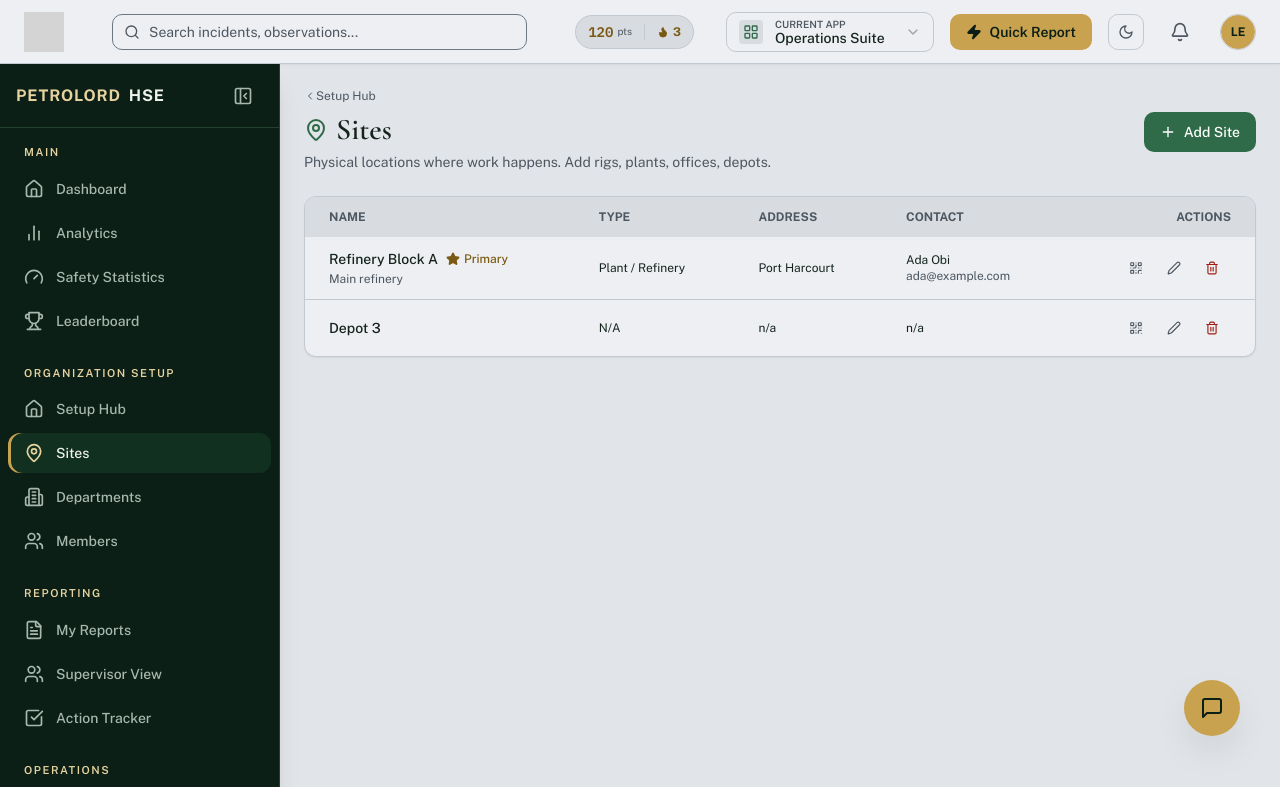
Test: Organisation admin (batch 1C) › further states › Sites: the delete confirmation is themed
Expected: the text "Depot 3" is shown, left=329, top=318, right=381, bottom=338
Press the mouse on the button named "Delete Depot 3": (1212, 328) left=1193, top=312, right=1231, bottom=344
Click the button named "Delete Depot 3": (1212, 328) left=1193, top=312, right=1231, bottom=344
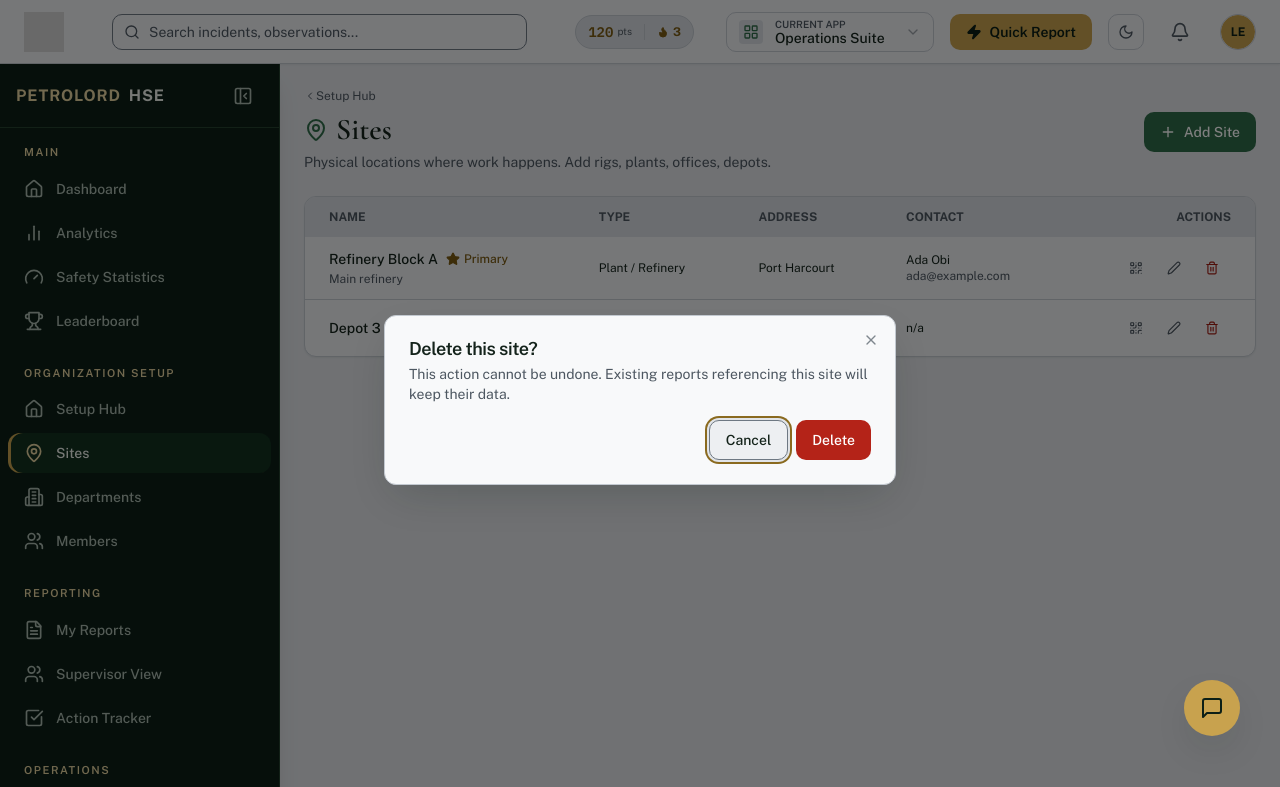
Expected: the heading "Delete this site?" is shown, left=409, top=338, right=537, bottom=359
